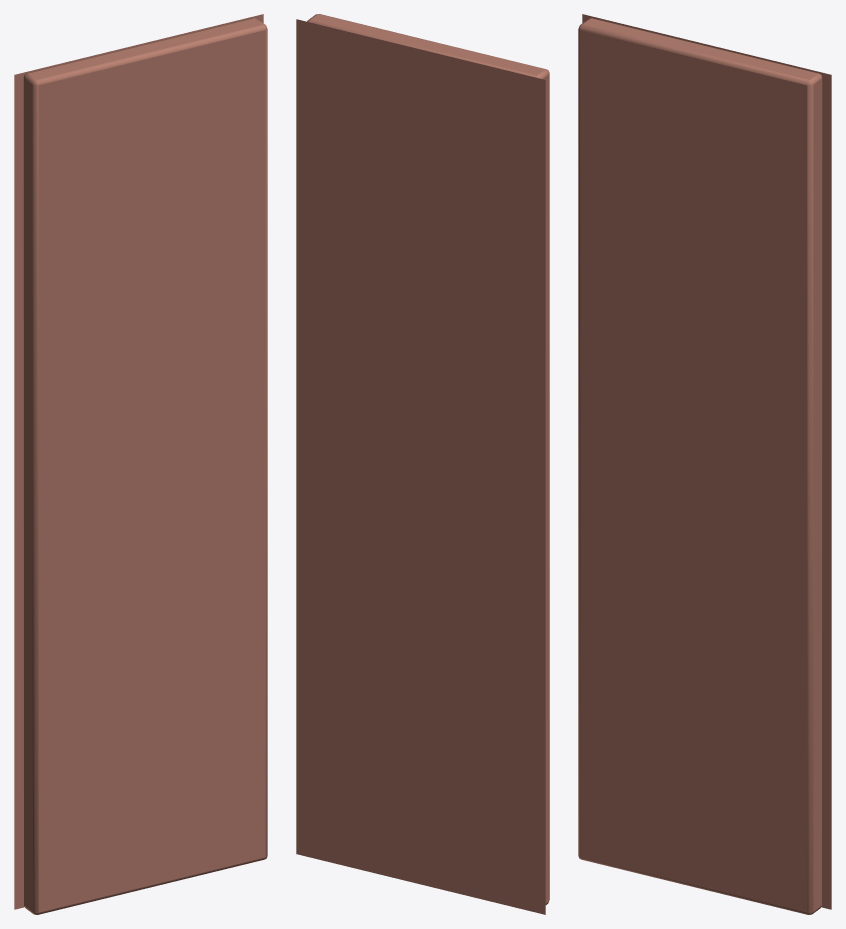
File: filler_brick_u_10.glb
3 renders of one model, left to right at view 1: azimuth 30°, elevation 25°; view 2: azimuth 150°, elevation 25°; view 3: azimuth 330°, elevation 25°, orthographic.
Visible parts, largest first — view 1: filler_brick_u_10; view 2: filler_brick_u_10; view 3: filler_brick_u_10.
Part boxes in pixels (x1,y1,x2,y2): filler_brick_u_10: [14, 14, 267, 914]; filler_brick_u_10: [296, 14, 549, 914]; filler_brick_u_10: [578, 14, 831, 914].
Bounding box in the file's own units: 1 × 3.2 × 0.09.
